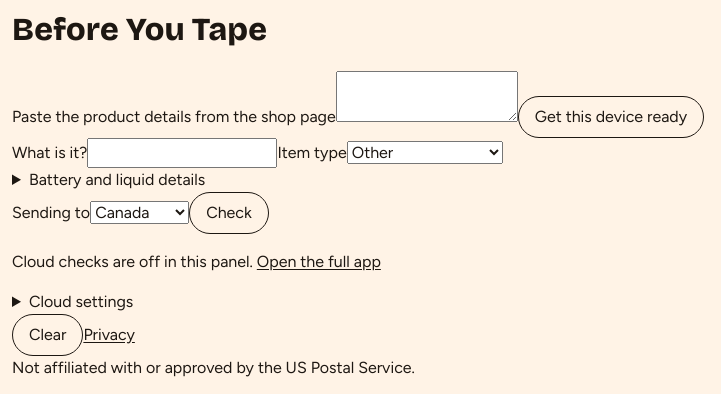
Test: shows the download button when the model is downloadable
Click the button "Get this device ready": (611, 117) x1=518 y1=96 x2=704 y2=138
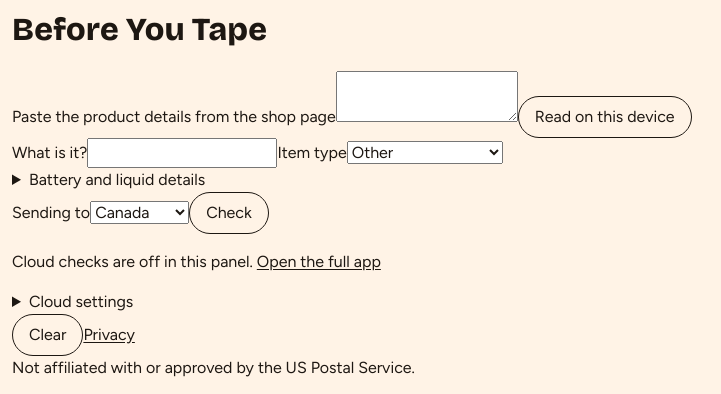
Result: the button "Read on this device" is shown at x1=518 y1=96 x2=692 y2=138
